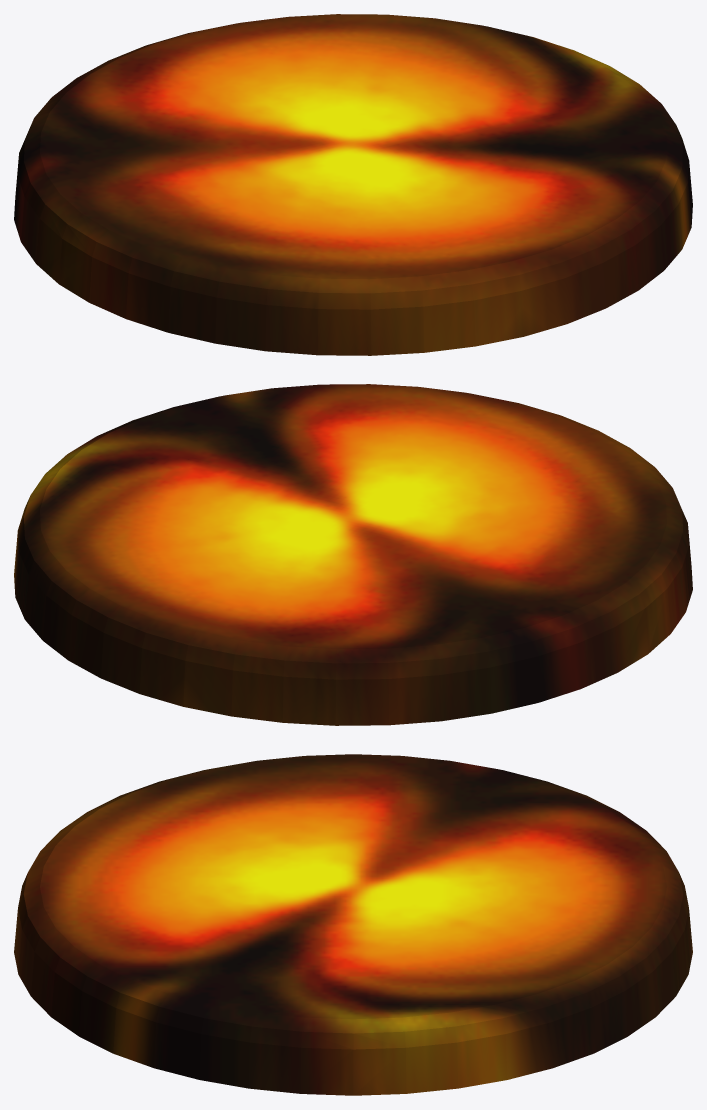
The model's file is Trophy Stand.obj.
The picture shows the model from 3 angles, top to bottom: view 1: azimuth 30°, elevation 25°; view 2: azimuth 150°, elevation 25°; view 3: azimuth 270°, elevation 25°; orthographic projection.
Visible parts, largest first — view 1: Mesh_0019; view 2: Mesh_0019; view 3: Mesh_0019.
Part boxes in pixels (x1,y1,x2,y2): Mesh_0019: (14, 14, 692, 355); Mesh_0019: (14, 384, 692, 725); Mesh_0019: (14, 754, 692, 1095).
Bounding box in the file's own units: 1.39 × 0.1512 × 1.39.
1 material, 1 textured.
